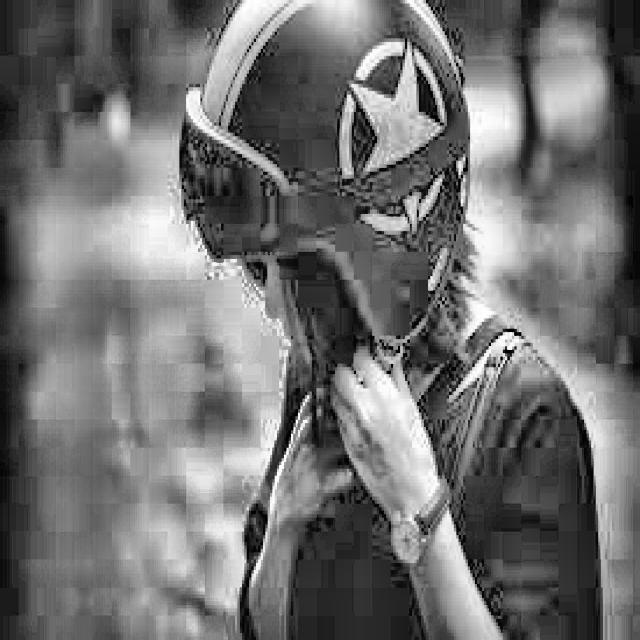Helmet: (158, 0, 490, 431)
